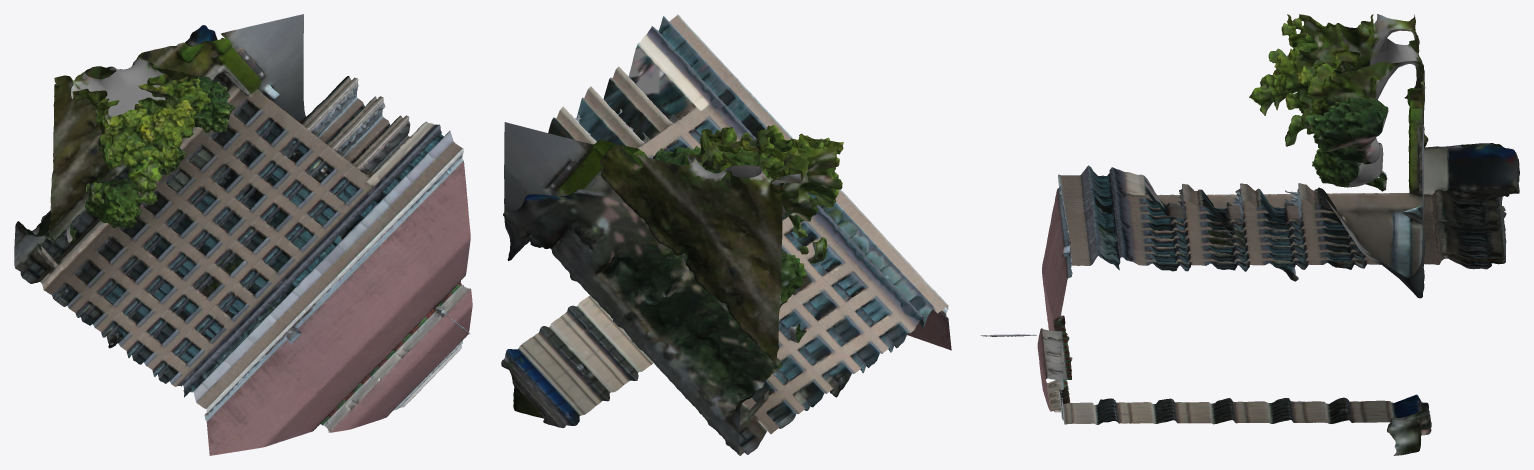
Rendered from Tile_+007_+020.fbx.
3 views of the same model, side by side, from view 1: azimuth 30°, elevation 25°; view 2: azimuth 150°, elevation 25°; view 3: azimuth 270°, elevation 25° (orthographic). The views are drawn at different scales.
Visible parts, largest first — view 1: DefaultName; view 2: DefaultName; view 3: DefaultName.
Part boxes in pixels (x1=…): DefaultName: x1=14, y1=14, x2=472, y2=455; DefaultName: x1=501, y1=14, x2=951, y2=455; DefaultName: x1=980, y1=14, x2=1519, y2=455.
Bounding box in the file's own units: 22.54 × 22.54 × 36.59.
